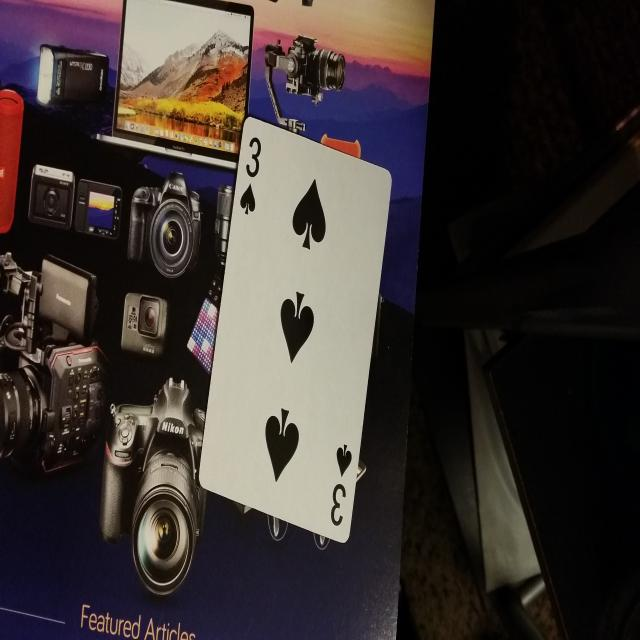3s: (328, 438, 354, 542), (238, 130, 263, 223)
